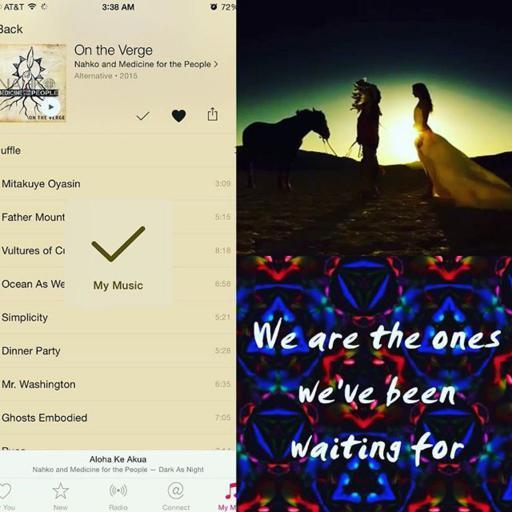horse: (241, 107, 332, 198)
